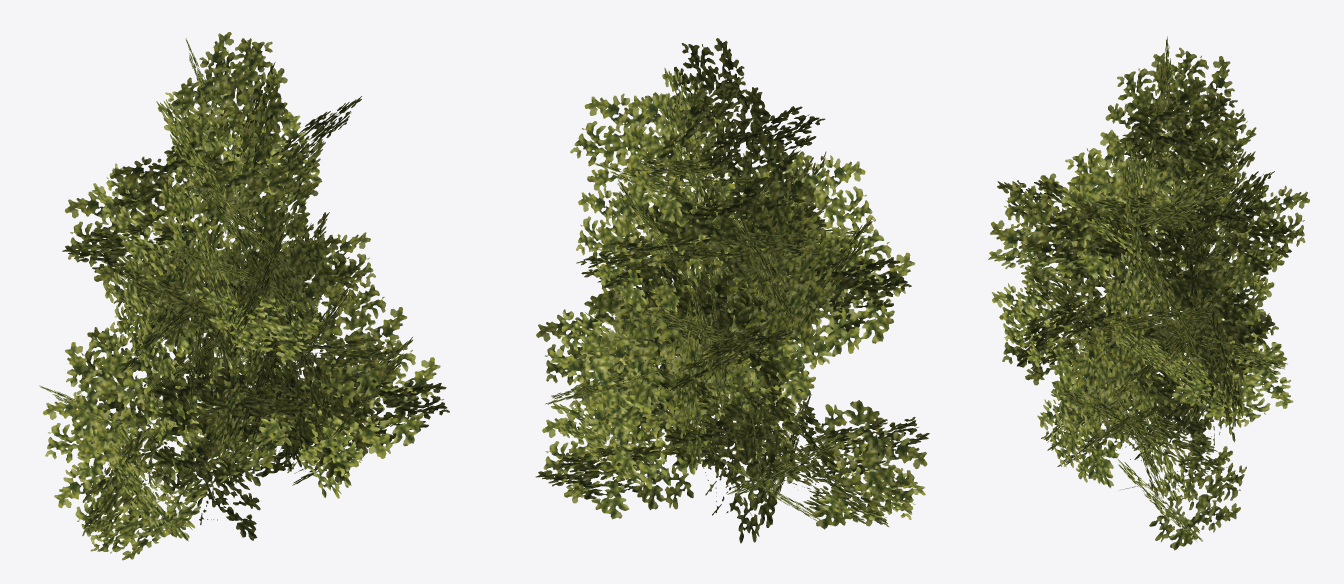
Rendered from busch_1.glb.
3 views of the same model, side by side, from view 1: azimuth 30°, elevation 25°; view 2: azimuth 150°, elevation 25°; view 3: azimuth 270°, elevation 25° (orthographic). The views are drawn at different scales.
Parts seen in each view (by area): view 1: laub; view 2: laub; view 3: laub.
Part boxes in pixels (x1,y1,x2,y2): laub: (39,32,449,560); laub: (535,38,929,543); laub: (988,36,1309,550).
Size of the model in its own units: 2.62 by 3.3 by 2.26.
Materials: 1 (1 with a texture image).
